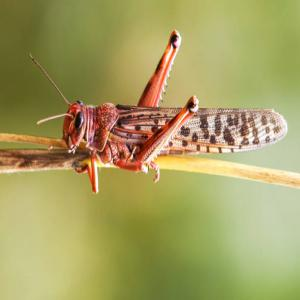locust: (19, 33, 297, 220)
